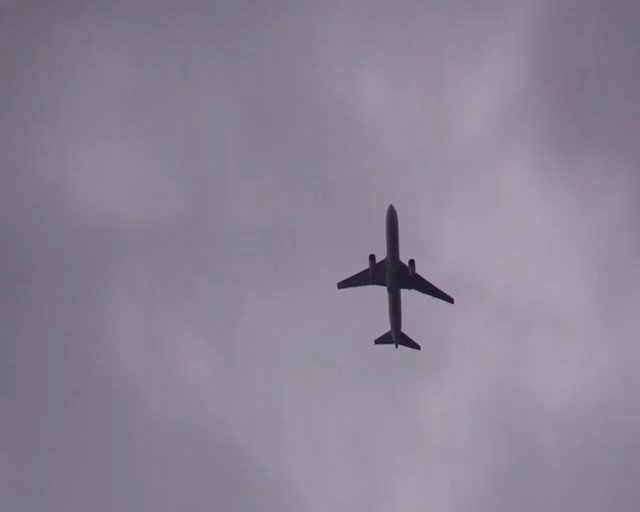AIRPLANE: (337, 202, 455, 350)
